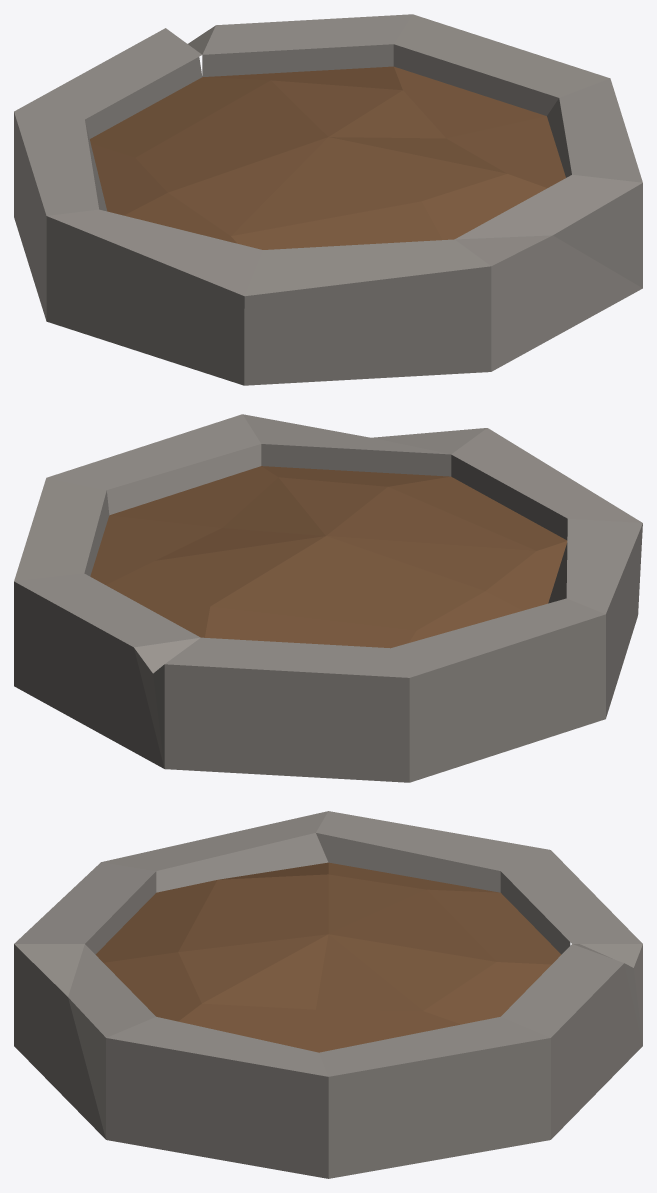
File: Tree_Base_13.gltf
3 renders of one model, top to bottom at view 1: azimuth 30°, elevation 25°; view 2: azimuth 150°, elevation 25°; view 3: azimuth 270°, elevation 25°, orthographic. The views are drawn at different scales.
Parts seen in each view (by area): view 1: Tree_Base_13; view 2: Tree_Base_13; view 3: Tree_Base_13.
Boxes of the visible parts, bbox=[...] form: Tree_Base_13: bbox=[14, 14, 642, 385]; Tree_Base_13: bbox=[14, 414, 642, 782]; Tree_Base_13: bbox=[14, 811, 642, 1178].
Size of the model in its own units: 0.1418 by 0.0278 by 0.1418.
1 material, 1 textured.
